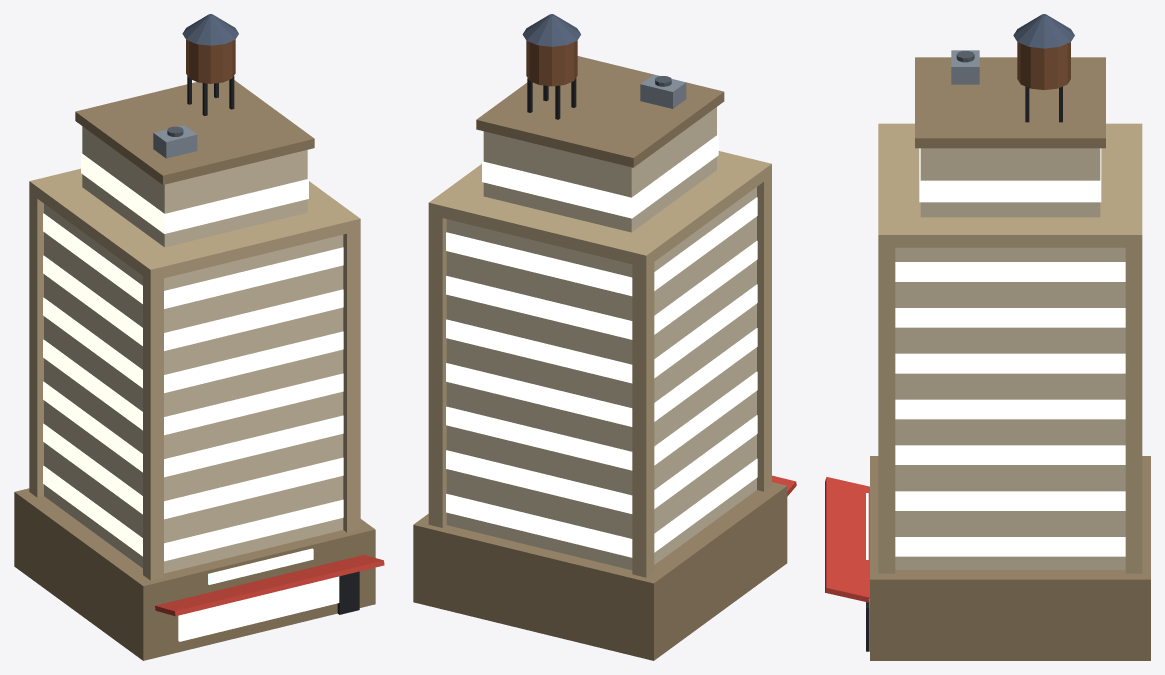
File: ec2-midrise.glb
3 renders of one model, left to right at view 1: azimuth 30°, elevation 25°; view 2: azimuth 150°, elevation 25°; view 3: azimuth 270°, elevation 25°, orthographic. The views are drawn at different scales.
Parts seen in each view (by area): view 1: cw_paint, cw_glow, cw_neon; view 2: cw_paint, cw_glow; view 3: cw_paint, cw_glow.
Part boxes in pixels (box(x1,y1,x2,y2)): cw_paint: box(14, 14, 384, 660); cw_glow: box(43, 153, 343, 641); cw_neon: box(208, 548, 313, 584); cw_paint: box(413, 14, 796, 660); cw_glow: box(446, 134, 757, 557); cw_paint: box(825, 14, 1150, 660); cw_glow: box(869, 148, 1125, 629).
Bounding box in the file's own units: 5.2 × 11.8 × 5.8.
